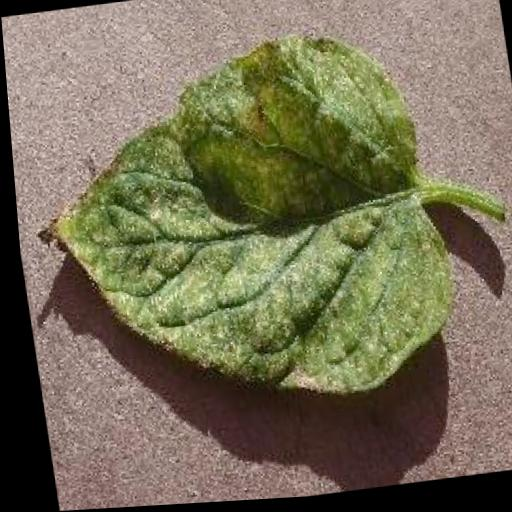Spider Mites: (20, 24, 462, 428)
